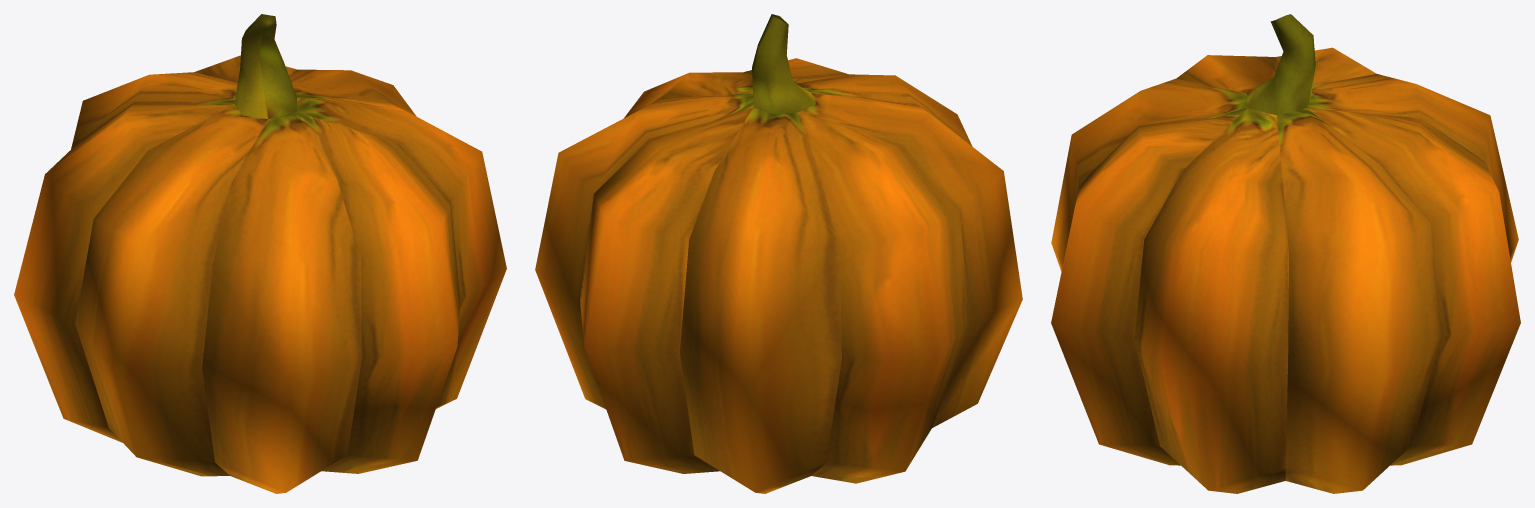
The model's file is ruraltown_pumpking_large_00.fbx.
3 views of the same model, side by side, from view 1: azimuth 30°, elevation 25°; view 2: azimuth 150°, elevation 25°; view 3: azimuth 270°, elevation 25° (orthographic). The views are drawn at different scales.
Parts seen in each view (by area): view 1: ruraltown_pumpking_large_00; view 2: ruraltown_pumpking_large_00; view 3: ruraltown_pumpking_large_00.
Boxes of the visible parts, x1,y1,x2,y2 form: ruraltown_pumpking_large_00: (14,14,506,493); ruraltown_pumpking_large_00: (535,14,1022,493); ruraltown_pumpking_large_00: (1051,14,1520,493).
Size of the model in its own units: 0.7856 by 0.8 by 0.7872.
